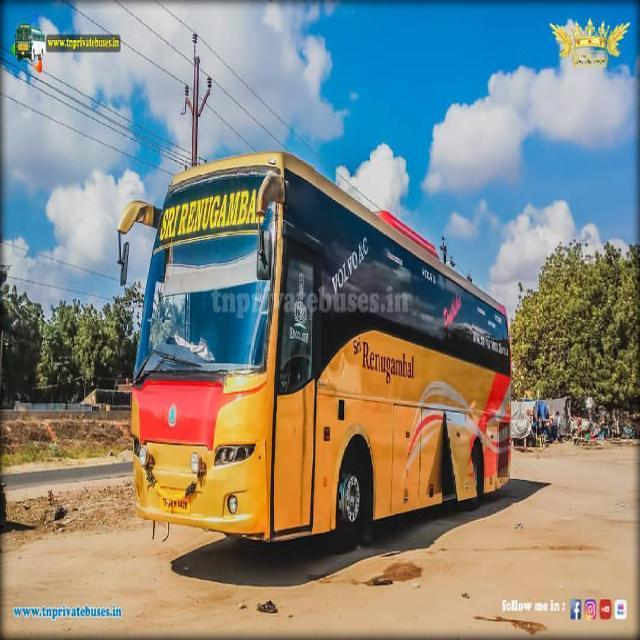Bus: (111, 148, 531, 561)
